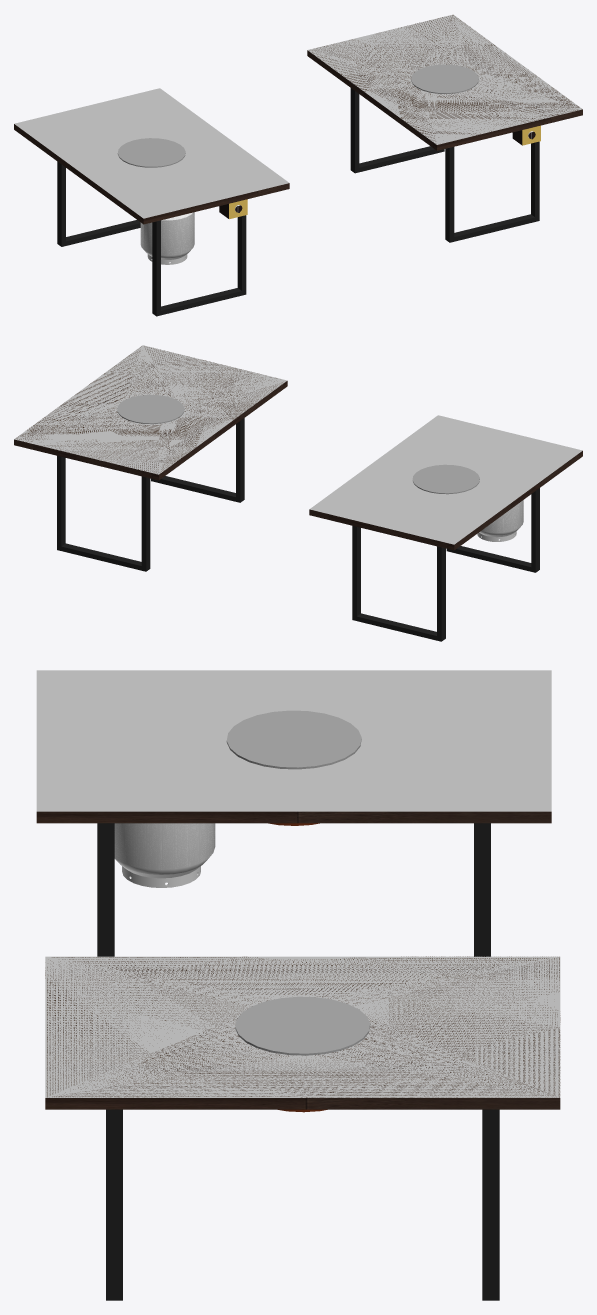
The picture shows the model from 3 angles, top to bottom: view 1: azimuth 30°, elevation 25°; view 2: azimuth 150°, elevation 25°; view 3: azimuth 270°, elevation 25°; orthographic projection. The views are drawn at different scales.
Visible parts, largest first — view 1: group_0 (×2), group_14 (×2), _840a661f-b225-449c-ac09-01bbbeca1663, group_12, group_26, group_21, group_6, group_15, group_8, group_7, group_22, group_1 (+3 smaller); view 2: group_14 (×2), group_0 (×2), group_12, group_26, _840a661f-b225-449c-ac09-01bbbeca1663, group_15, group_1, group_3, group_17, group_16, group_4, group_21 (+3 smaller); view 3: group_0 (×2), group_14 (×2), group_12, group_26, _840a661f-b225-449c-ac09-01bbbeca1663, group_17, group_23, group_8, group_3.
Boxes of the visible parts, x1,y1,x2,y2 form: group_0 (×2): (14, 88, 289, 224); group_14 (×2): (307, 14, 582, 150); _840a661f-b225-449c-ac09-01bbbeca1663: (140, 212, 194, 264); group_12: (117, 138, 185, 167); group_26: (411, 64, 478, 93); group_21: (445, 147, 454, 242); group_6: (152, 220, 160, 316); group_15: (350, 88, 359, 173); group_8: (237, 215, 246, 295); group_7: (161, 288, 241, 315); group_22: (454, 214, 534, 241); group_1: (57, 161, 65, 246); group_14 (×2): (14, 345, 287, 480); group_0 (×2): (309, 415, 582, 550); group_12: (412, 464, 479, 494); group_26: (117, 394, 184, 424); _840a661f-b225-449c-ac09-01bbbeca1663: (477, 500, 523, 541); group_15: (141, 476, 150, 571); group_1: (437, 546, 445, 641); group_3: (352, 526, 360, 620); group_17: (57, 456, 65, 550); group_16: (61, 543, 141, 570); group_4: (357, 613, 436, 640); group_21: (236, 418, 244, 502); group_0 (×2): (36, 670, 551, 823); group_14 (×2): (45, 956, 560, 1109); group_12: (226, 710, 361, 769); group_26: (235, 996, 370, 1055); _840a661f-b225-449c-ac09-01bbbeca1663: (114, 823, 215, 887); group_17: (482, 1109, 499, 1300); group_23: (106, 1109, 122, 1300); group_8: (97, 823, 114, 956); group_3: (474, 823, 490, 956).
Size of what is drawn, in the model's own units: 118 by 60.99 by 29.81.
